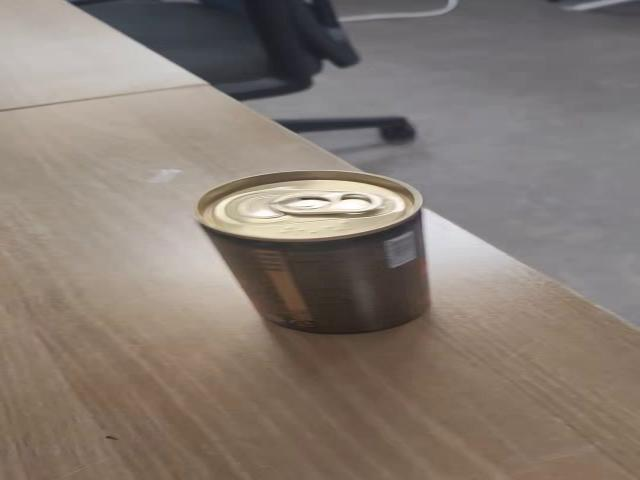Canned_drinks: (192, 166, 436, 344)
